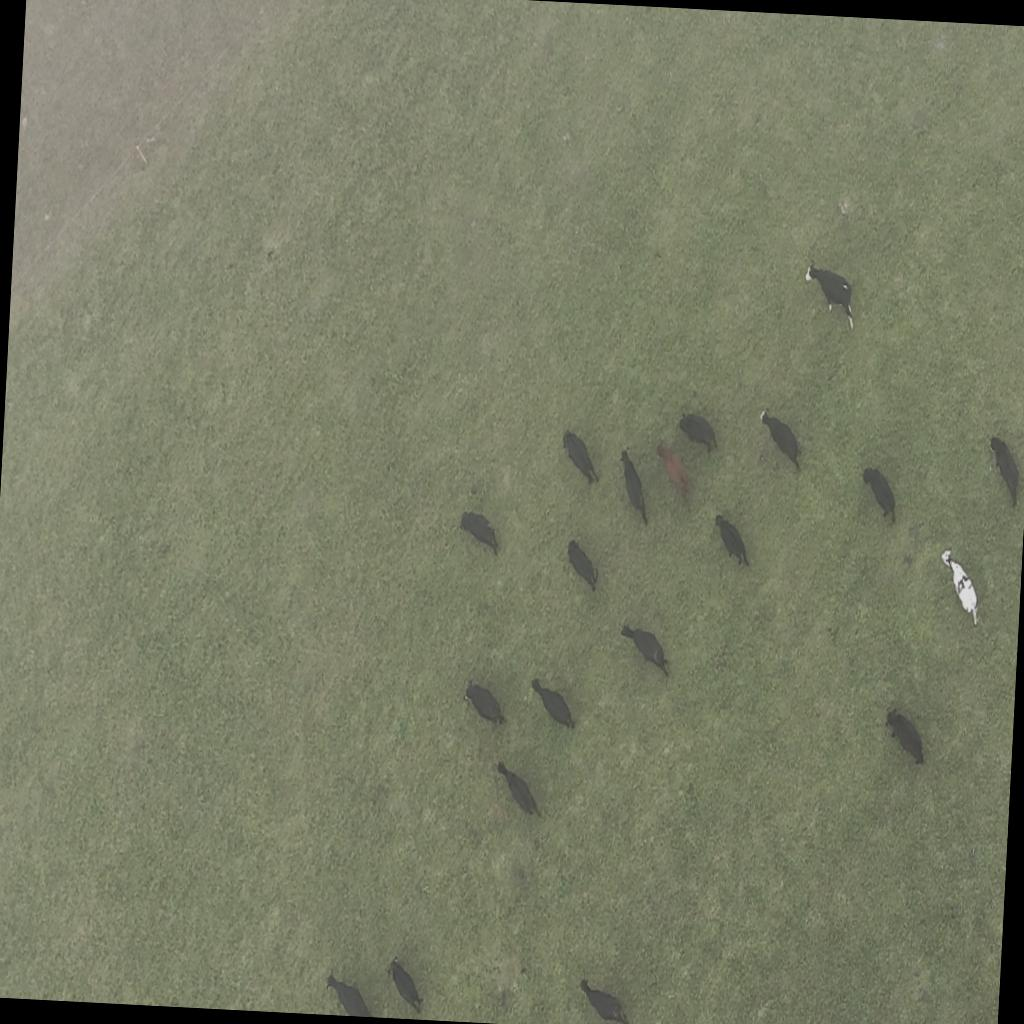cow: (799, 258, 858, 340), (932, 545, 984, 633), (756, 408, 804, 473), (619, 622, 672, 680), (494, 758, 543, 820), (617, 448, 652, 528), (653, 444, 694, 510), (528, 676, 578, 730), (988, 436, 1024, 508), (884, 707, 928, 765), (578, 976, 631, 1024), (560, 429, 602, 487), (386, 954, 426, 1012), (860, 467, 899, 526), (461, 680, 507, 730), (324, 972, 374, 1018), (712, 514, 752, 570), (458, 510, 502, 557), (677, 410, 721, 456), (564, 538, 600, 593)
